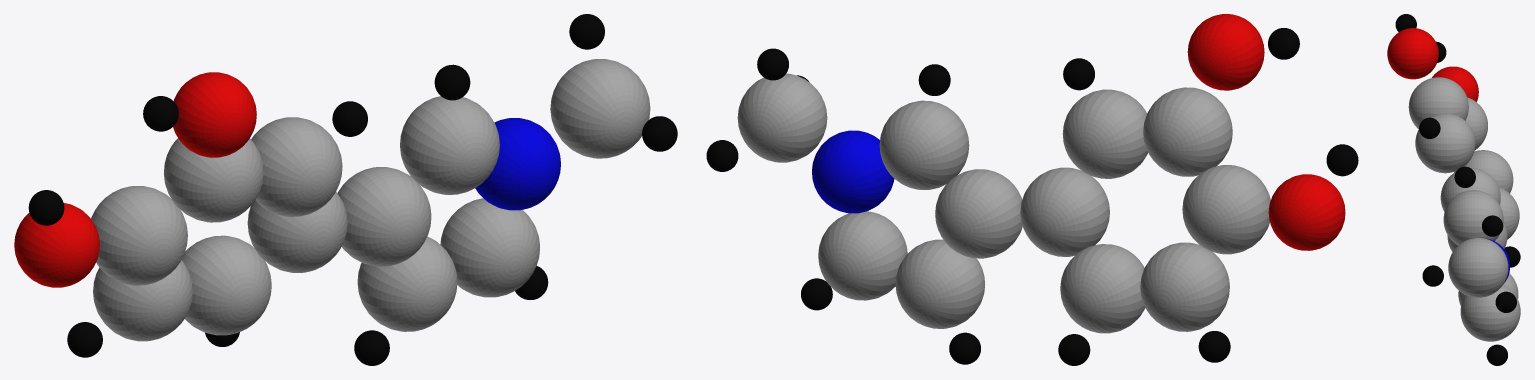
Rendered from Serotonin.glb.
3 renders of one model, left to right at view 1: azimuth 30°, elevation 25°; view 2: azimuth 150°, elevation 25°; view 3: azimuth 270°, elevation 25°, orthographic. The views are drawn at different scales.
Visible parts, largest first — view 1: world; view 2: world; view 3: world.
Boxes of the visible parts, bbox=[...] form: world: bbox=[14, 14, 677, 365]; world: bbox=[706, 14, 1358, 365]; world: bbox=[1387, 14, 1520, 365].
Bounding box in the file's own units: 10.73 × 6.05 × 3.11.
